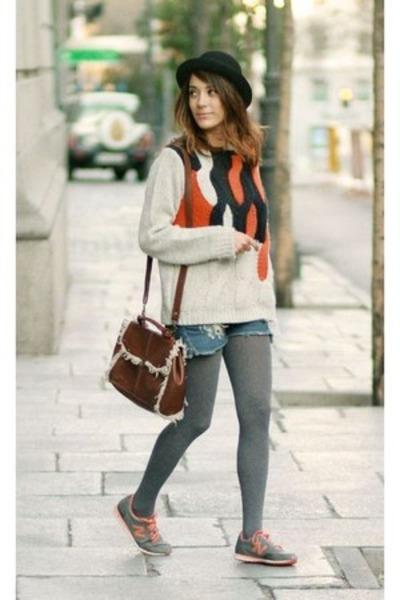bag: (105, 248, 203, 419)
hat: (176, 51, 248, 98)
shirt: (133, 132, 275, 324)
shoe: (117, 495, 296, 575)
shorts: (180, 319, 272, 360)
